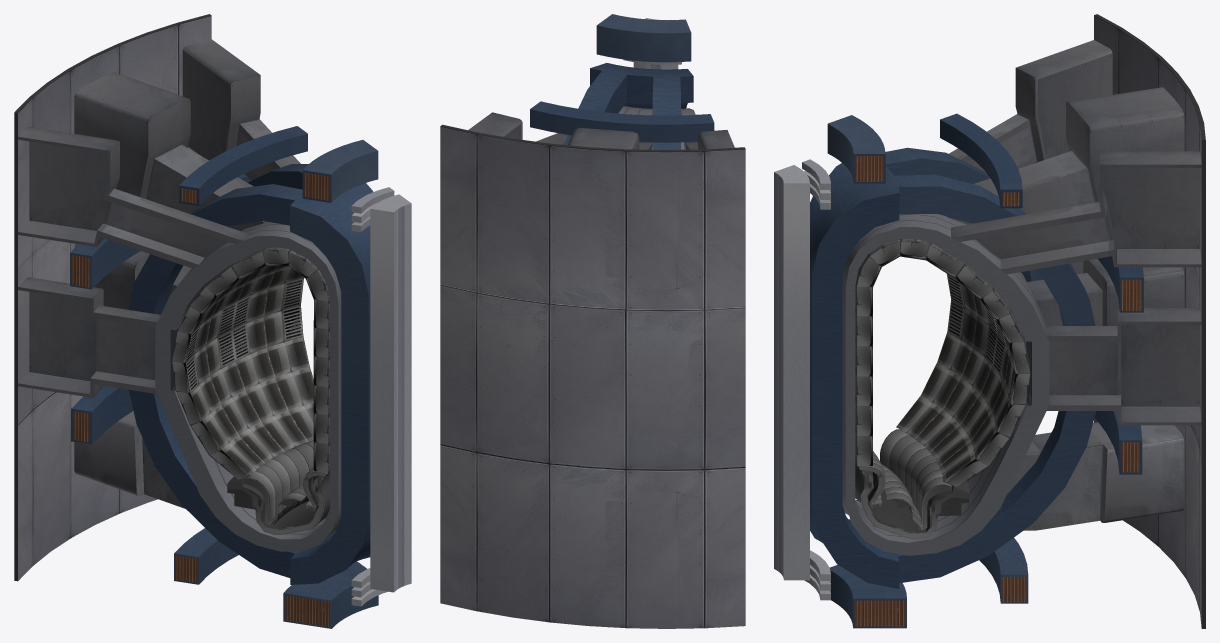
The model's file is iter.fbx.
3 renders of one model, left to right at view 1: azimuth 30°, elevation 25°; view 2: azimuth 150°, elevation 25°; view 3: azimuth 270°, elevation 25°, orthographic. The views are drawn at different scales.
Parts seen in each view (by area): view 1: Ports, Blanket, TF Coil, Wall, Central Solenoid, PF Coils, Vacuum Vessel, Divertor; view 2: Wall, PF Coils, TF Coil, Ports; view 3: Ports, TF Coil, Blanket, Vacuum Vessel, Central Solenoid, PF Coils, Wall, Divertor.
Part boxes in pixels (bbox=[...]): Ports: bbox=[18, 39, 300, 508]; Blanket: bbox=[172, 247, 329, 479]; TF Coil: bbox=[128, 164, 373, 584]; Wall: bbox=[14, 14, 211, 581]; Central Solenoid: bbox=[351, 187, 411, 606]; PF Coils: bbox=[70, 126, 378, 628]; Vacuum Vessel: bbox=[155, 221, 341, 551]; Divertor: bbox=[227, 440, 329, 535]; Wall: bbox=[440, 124, 745, 628]; PF Coils: bbox=[530, 14, 714, 142]; TF Coil: bbox=[564, 63, 693, 149]; Ports: bbox=[468, 112, 734, 149]; Ports: bbox=[947, 40, 1201, 530]; TF Coil: bbox=[810, 147, 1096, 588]; Blanket: bbox=[855, 238, 1030, 487]; Vacuum Vessel: bbox=[842, 214, 1049, 555]; Central Solenoid: bbox=[774, 159, 830, 600]; PF Coils: bbox=[827, 113, 1143, 628]; Wall: bbox=[1094, 14, 1205, 628]; Divertor: bbox=[855, 429, 969, 539].
Bounding box in the file's own units: 249 × 450 × 360.
